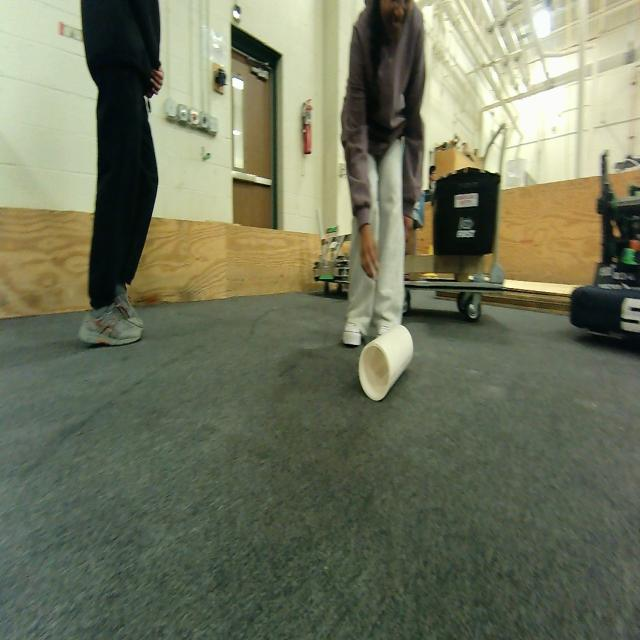coral: (358, 324, 414, 401)
